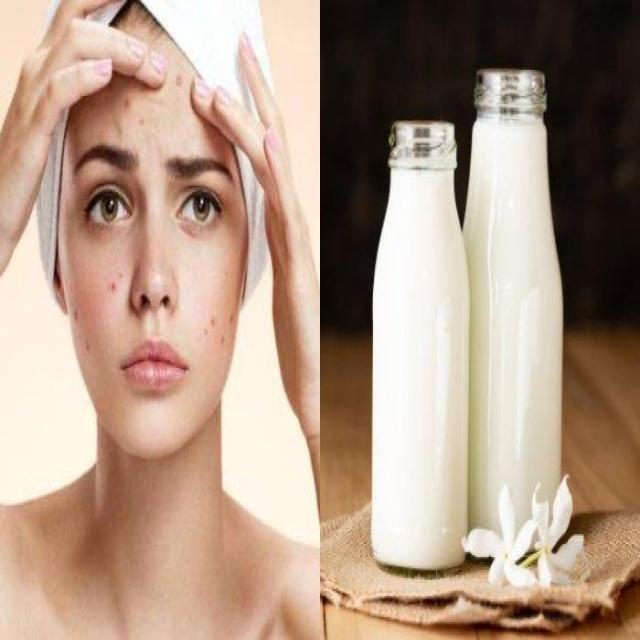Acne: (64, 256, 124, 369), (192, 296, 236, 368)
